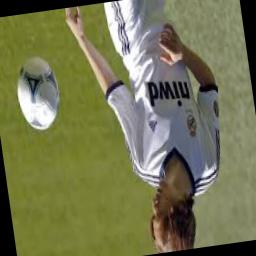football: (12, 52, 63, 132)
